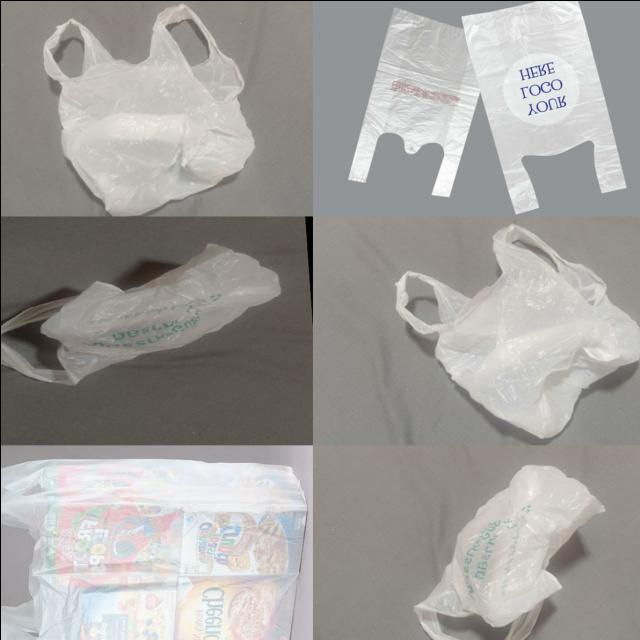plastik: (0, 459, 306, 640), (395, 224, 640, 437), (43, 4, 254, 214), (0, 243, 279, 384), (461, 0, 625, 213), (414, 464, 603, 640), (348, 7, 478, 196)
